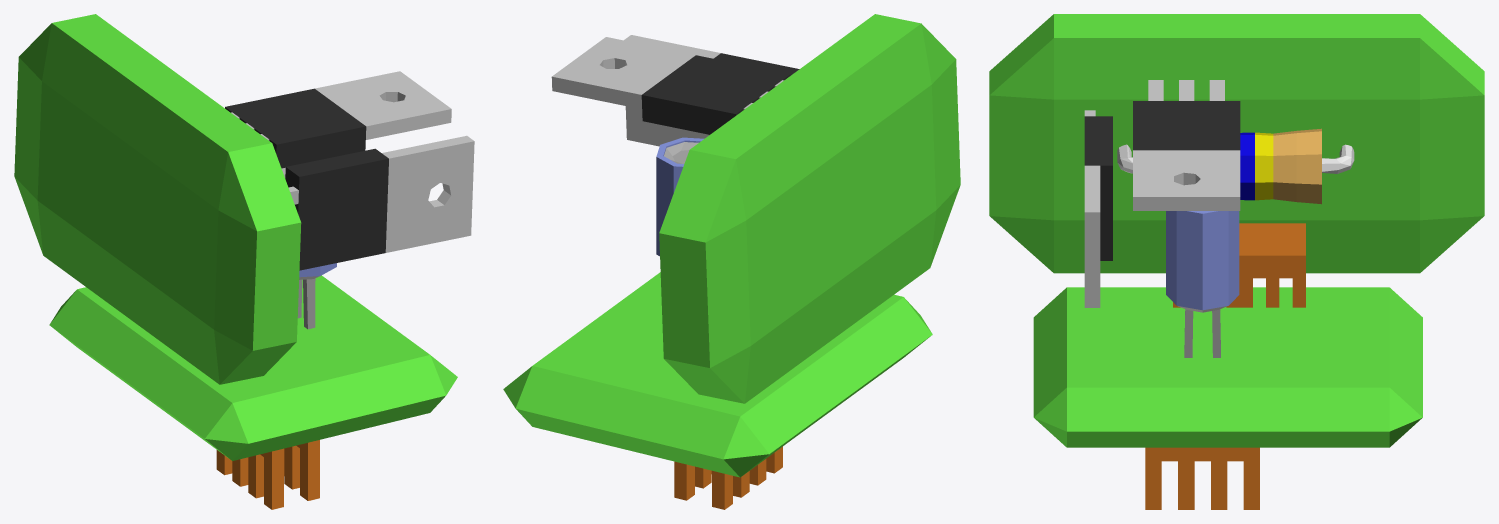
File: 8BitMemoryModule_Item.fbx
The picture shows the model from 3 angles, left to right: view 1: azimuth 30°, elevation 25°; view 2: azimuth 150°, elevation 25°; view 3: azimuth 270°, elevation 25°; orthographic projection. The views are drawn at different scales.
Visible parts, largest first — view 1: Cube.001; view 2: Cube.001; view 3: Cube.001.
Boxes of the visible parts, box(x1,y1,x2,y2) form: Cube.001: box(14, 14, 474, 509); Cube.001: box(503, 14, 960, 509); Cube.001: box(989, 14, 1484, 509).
Size of the model in its own units: 75.96 by 107 by 112.
